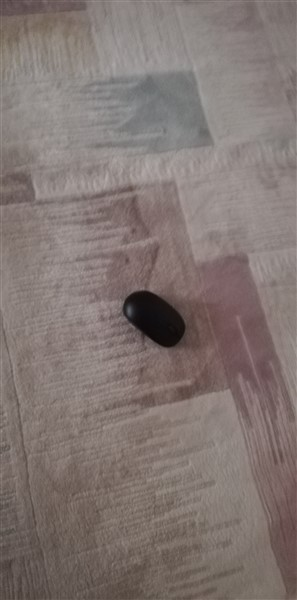mouse: (118, 288, 188, 353)
